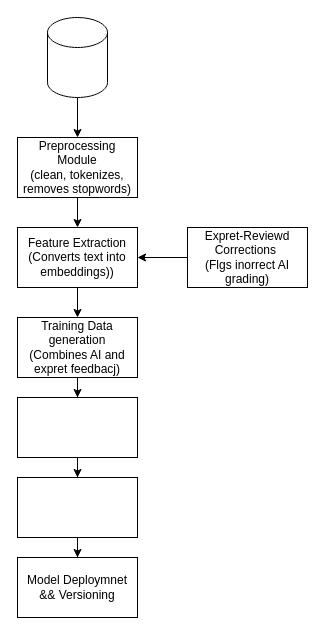
Image size: 325x635. Some labels were removed from this diagram. The shapes that lost their labels are listed below. From the top down, each one's box as (x1, y1, x2, y2) in pixels, then its label:
(46, 16, 108, 98): Answers
(16, 396, 138, 458): Fine-Tuning BERT Model
(16, 476, 138, 538): Model Validation/Testing
